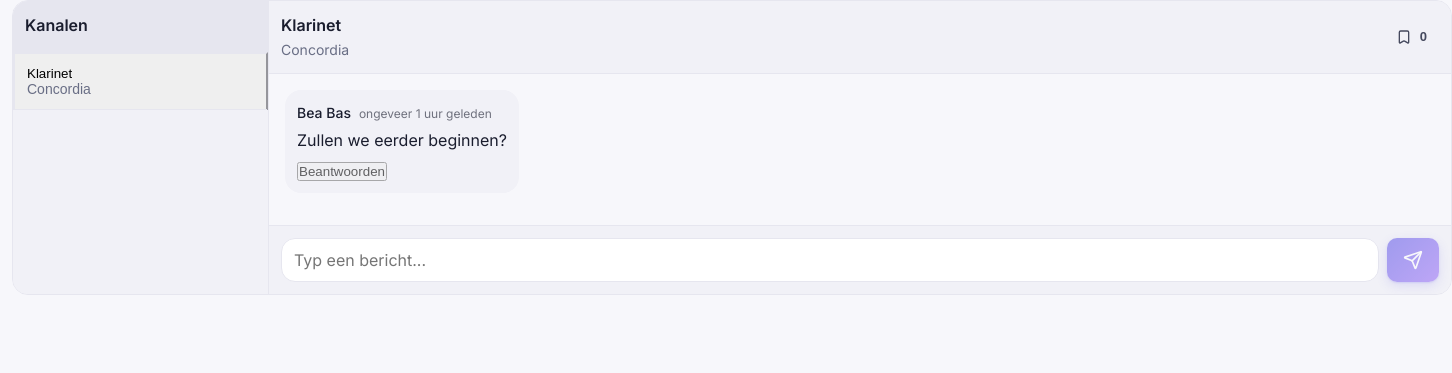
Test: een bericht versturen › laat het antwoorden weer los na het versturen
Step 1. Click the button "Beantwoorden" → [342, 172], box [297,162,387,181]
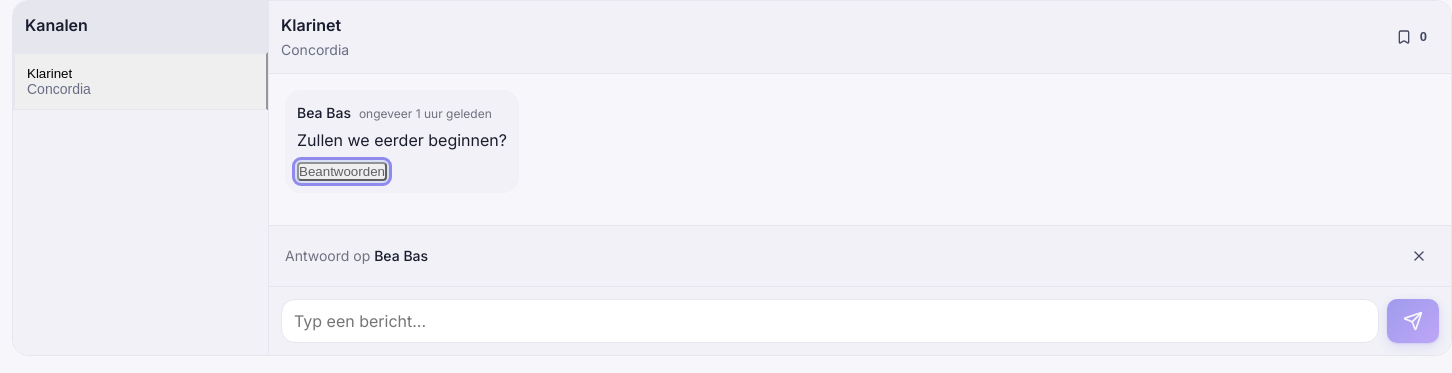
Step 2. Type "Ja prima" into the field with placeholder "Typ een bericht..." → [830, 321], box [281,299,1379,343]
Then press Enter
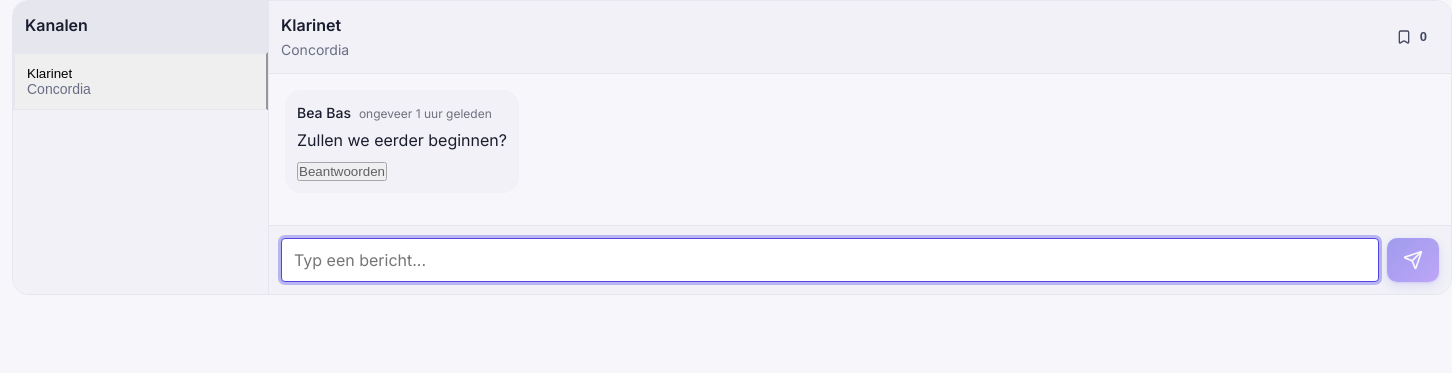
Expected: the text "Antwoord op" is gone
